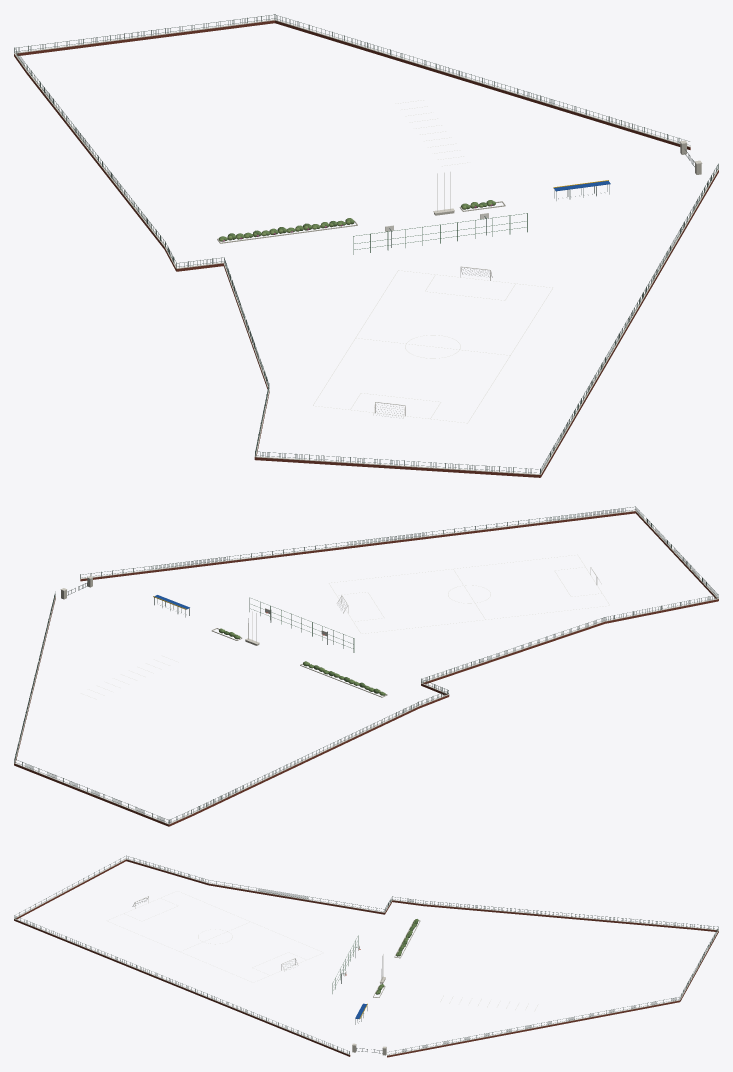
The picture shows the model from 3 angles, top to bottom: view 1: azimuth 30°, elevation 25°; view 2: azimuth 150°, elevation 25°; view 3: azimuth 270°, elevation 25°; orthographic projection. The views are drawn at different scales.
Parts seen in each view (by area): view 1: prop_boundary-fence, prop_flowerbeds, prop_field-lines; view 2: prop_boundary-fence, prop_flowerbeds; view 3: prop_boundary-fence, prop_flowerbeds.
Part boxes in pixels (left/top/right/bottom): prop_boundary-fence: left=14, top=14, right=718, bottom=477; prop_flowerbeds: left=217, top=200, right=505, bottom=243; prop_field-lines: left=313, top=270, right=552, bottom=423; prop_boundary-fence: left=14, top=506, right=718, bottom=826; prop_flowerbeds: left=211, top=628, right=387, bottom=697; prop_boundary-fence: left=14, top=855, right=718, bottom=1057; prop_flowerbeds: left=373, top=919, right=420, bottom=997.
Size of the model in its own units: 135 by 8.2 by 204.
